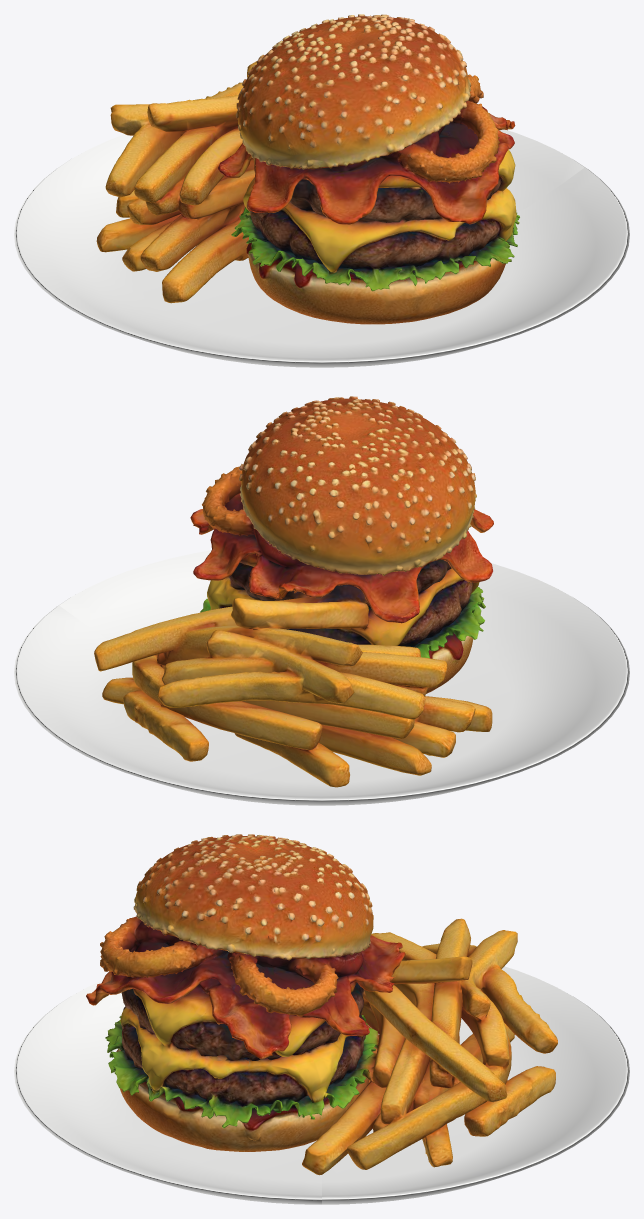
File: fuerte_hamburguesa.glb
3 renders of one model, top to bottom at view 1: azimuth 30°, elevation 25°; view 2: azimuth 150°, elevation 25°; view 3: azimuth 270°, elevation 25°, orthographic.
Parts seen in each view (by area): view 1: tripo_node_ad43b7fd-dc60-4c42-aa59-ff6640f37b76, plato; view 2: tripo_node_ad43b7fd-dc60-4c42-aa59-ff6640f37b76, plato; view 3: tripo_node_ad43b7fd-dc60-4c42-aa59-ff6640f37b76, plato.
Boxes of the visible parts, left/top/right/bottom form: tripo_node_ad43b7fd-dc60-4c42-aa59-ff6640f37b76: left=96, top=14, right=519, bottom=324; plato: left=14, top=129, right=629, bottom=367; tripo_node_ad43b7fd-dc60-4c42-aa59-ff6640f37b76: left=94, top=396, right=493, bottom=787; plato: left=14, top=550, right=629, bottom=805; tripo_node_ad43b7fd-dc60-4c42-aa59-ff6640f37b76: left=86, top=834, right=557, bottom=1175; plato: left=14, top=966, right=629, bottom=1204.
Bounding box in the file's own units: 0.274 × 0.1313 × 0.274.
Materials: 2 (1 with a texture image).
